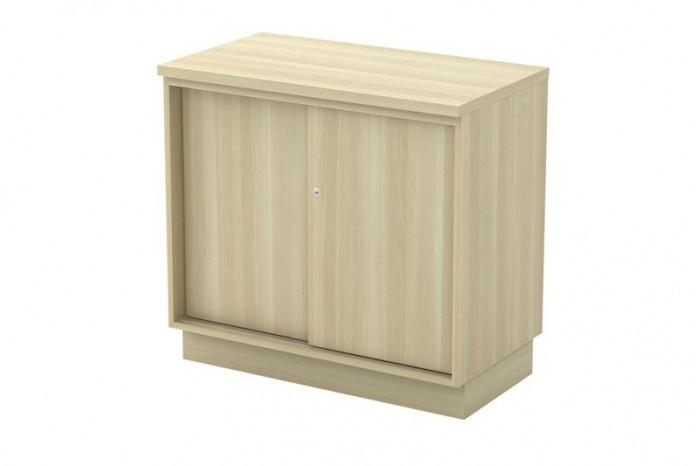cabinet_door: (306, 120, 449, 360), (181, 110, 308, 340)
